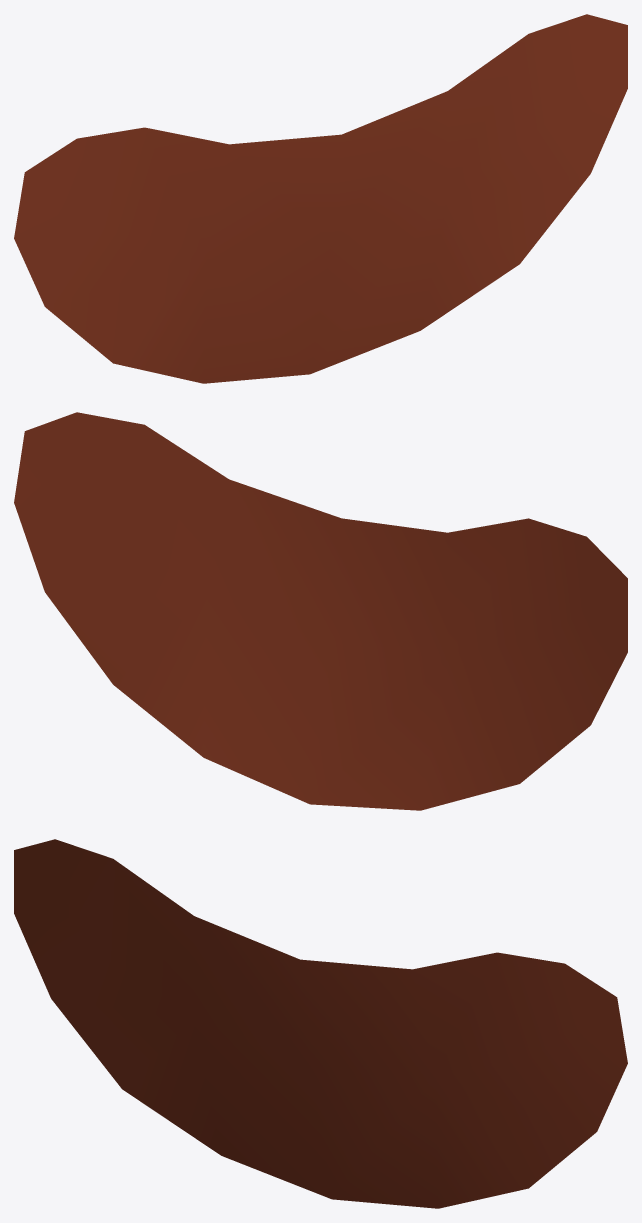
File: Mouth_Brown_6.fbx
The picture shows the model from 3 angles, top to bottom: view 1: azimuth 30°, elevation 25°; view 2: azimuth 150°, elevation 25°; view 3: azimuth 330°, elevation 25°; orthographic projection.
Visible parts, largest first — view 1: Mouth_Brown_6; view 2: Mouth_Brown_6; view 3: Mouth_Brown_6.
Boxes of the visible parts, left/top/right/bottom form: Mouth_Brown_6: left=14, top=14, right=627, bottom=383; Mouth_Brown_6: left=14, top=412, right=627, bottom=810; Mouth_Brown_6: left=14, top=839, right=627, bottom=1208.
Bounding box in the file's own units: 7.46 × 3.64 × 0.6651.
